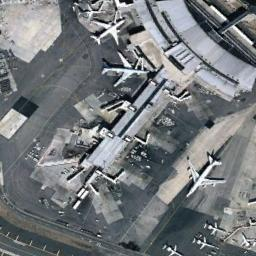Airplane: (184, 152, 232, 201), (98, 50, 152, 88), (92, 16, 132, 45), (75, 4, 109, 24), (196, 236, 220, 251), (208, 220, 226, 236), (242, 233, 254, 248)
